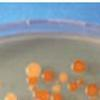orange: (24, 61, 43, 79), (70, 58, 89, 74), (38, 68, 55, 83), (31, 86, 49, 100), (82, 83, 99, 97), (24, 75, 40, 87), (55, 71, 70, 83), (66, 81, 80, 92), (2, 92, 19, 100), (50, 84, 61, 94), (50, 92, 63, 100), (28, 84, 38, 92), (84, 94, 97, 100), (78, 77, 86, 86), (0, 79, 5, 89), (96, 88, 100, 97)
